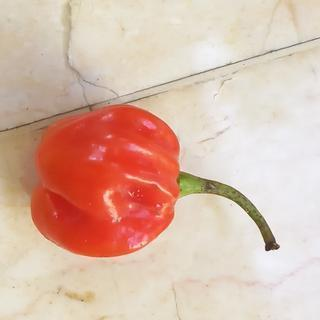Grade-B: (24, 99, 185, 261)
